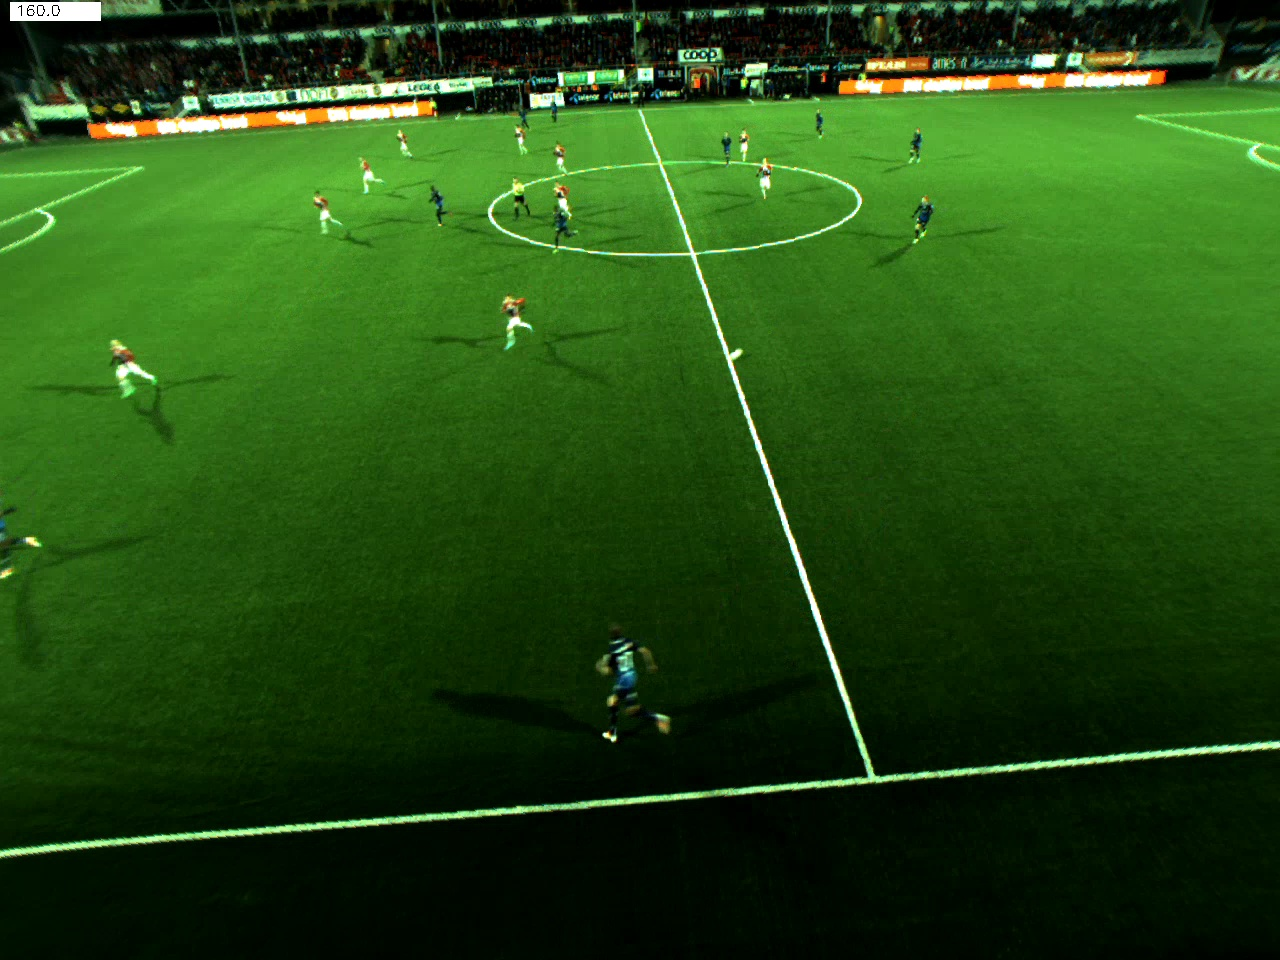blue: (594, 623, 671, 745), (425, 176, 455, 241), (548, 202, 581, 259), (909, 190, 937, 255), (903, 130, 927, 166), (715, 127, 733, 170), (810, 107, 828, 145), (515, 106, 532, 134), (546, 100, 560, 123)
red: (105, 332, 165, 404), (500, 288, 538, 354), (310, 185, 344, 239), (351, 156, 390, 189), (387, 122, 418, 161), (551, 179, 579, 219), (550, 139, 575, 178), (510, 124, 533, 159), (756, 155, 774, 196), (735, 126, 751, 162)
yellow: (506, 170, 537, 220)
